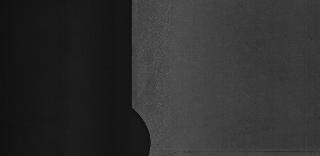welding line: (148, 146, 320, 154)
